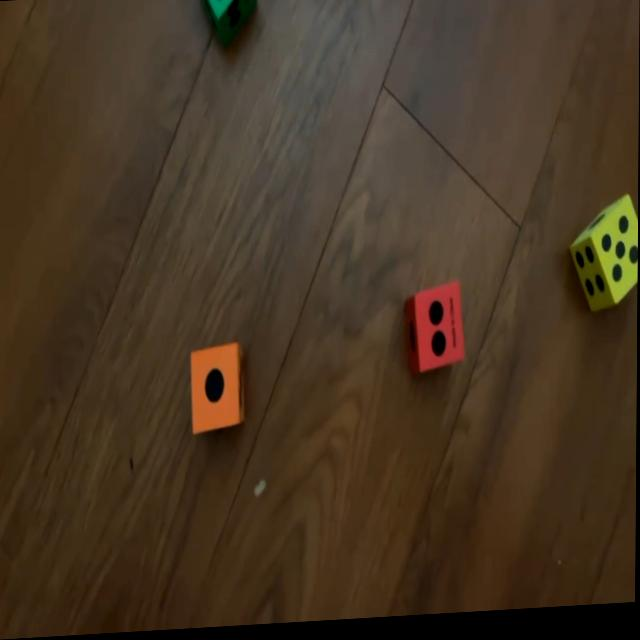red_block: (406, 286, 464, 376)
